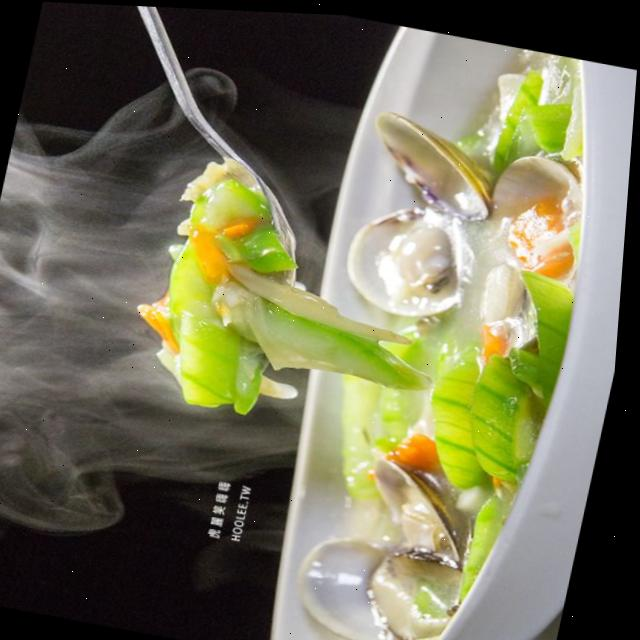Wet: (245, 58, 637, 640), (123, 160, 342, 438)
